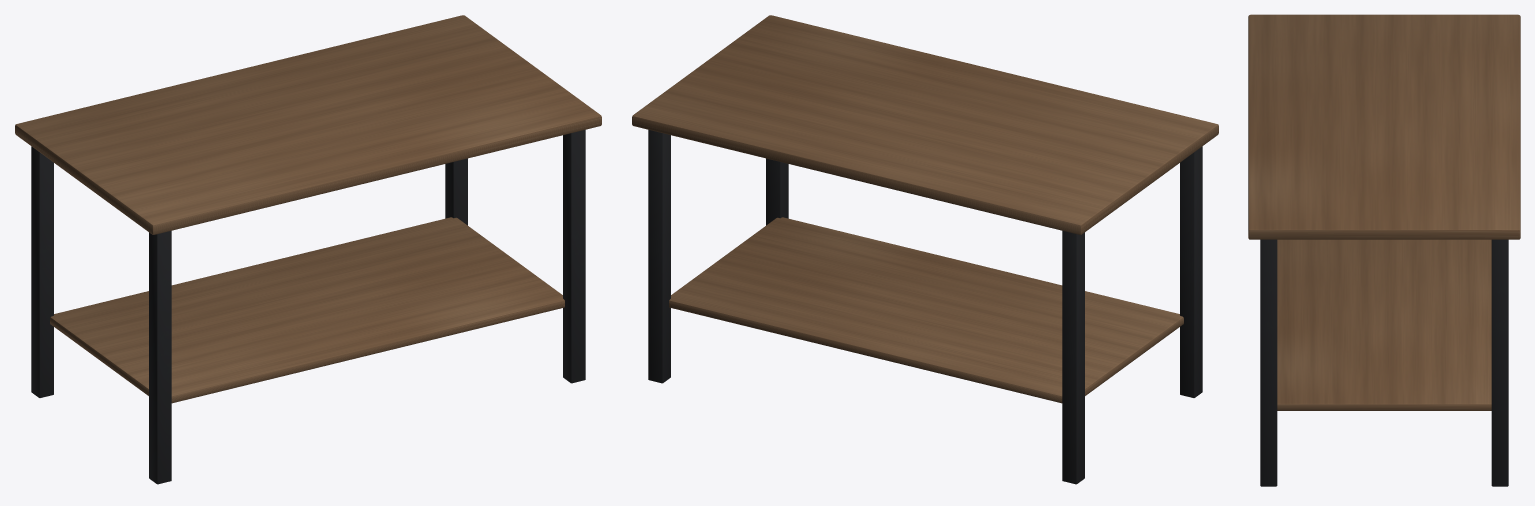
The model's file is pf_fixture_center_table.glb.
The picture shows the model from 3 angles, left to right: view 1: azimuth 30°, elevation 25°; view 2: azimuth 150°, elevation 25°; view 3: azimuth 270°, elevation 25°; orthographic projection.
Parts seen in each view (by area): view 1: pf_fixture_center_table_body; view 2: pf_fixture_center_table_body; view 3: pf_fixture_center_table_body.
Boxes of the visible parts, left/top/right/bottom form: pf_fixture_center_table_body: left=15, top=15, right=601, bottom=484; pf_fixture_center_table_body: left=632, top=15, right=1218, bottom=484; pf_fixture_center_table_body: left=1248, top=14, right=1520, bottom=486.
Size of the model in its own units: 1.5 by 0.85 by 0.8.
3 materials, 2 textured.
